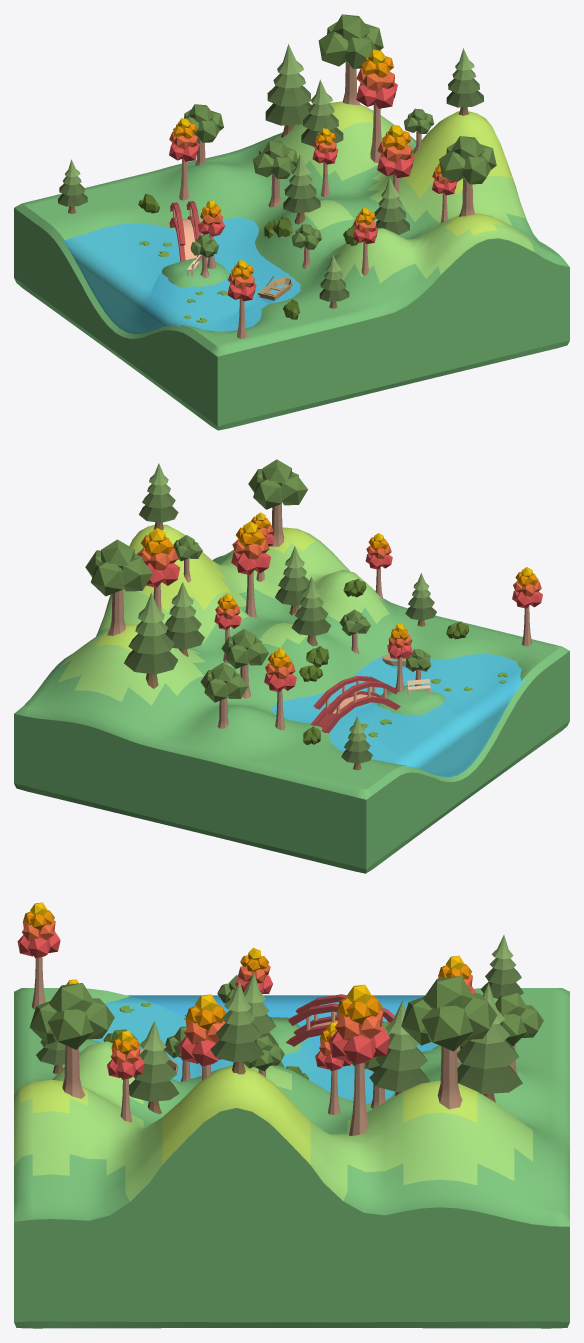
File: HomeRiver.glb
3 renders of one model, top to bottom at view 1: azimuth 30°, elevation 25°; view 2: azimuth 150°, elevation 25°; view 3: azimuth 270°, elevation 25°, orthographic. The views are drawn at different scales.
Parts seen in each view (by area): view 1: terrain, water, pCone4_lambert12_0.001, pPlatonic5_lambert11_0.003, pCone3_lambert13_0.001, pPlatonic2_lambert11_0.003, pPlatonic1_lambert11_0.003, pCube1, pPlatonic2_lambert11_0.002, pPlatonic5_lambert11_0.002, pPlatonic1_lambert11_0.002, pCube2; view 2: terrain, water, pCube1, pCube2, pCone4_lambert12_0.001, pPlatonic3_lambert11_0.003, pPlatonic5_lambert11_0.003, pCone3_lambert13_0.001, pPlatonic3_lambert11_0.002, pPlatonic1_lambert11_0.003, pPlatonic5_lambert11_0.002, pCylinder1_lambert18_0.003 (+4 smaller); view 3: terrain, water, pPlatonic4_lambert11_0.003, pCone4_lambert12_0.001, pCone3_lambert13_0.001, pPlatonic4_lambert11_0.002, pPlatonic1_lambert11_0.003, pCylinder1_lambert18_0.003, pCone4_lambert12_0.006, pPlatonic3_lambert11_0.003, pCylinder2_tree_trunk_0.002, pPlatonic1_lambert11_0.002 (+14 smaller).
Boxes of the visible parts, x1,y1,x2,y2 form: terrain: (14, 101, 569, 430); water: (62, 218, 300, 334); pCone4_lambert12_0.001: (265, 102, 311, 125); pPlatonic5_lambert11_0.003: (318, 31, 348, 66); pCone3_lambert13_0.001: (267, 85, 310, 106); pPlatonic2_lambert11_0.003: (345, 36, 376, 68); pPlatonic1_lambert11_0.003: (331, 14, 370, 40); pCube1: (169, 216, 202, 261); pPlatonic2_lambert11_0.002: (462, 156, 491, 184); pPlatonic5_lambert11_0.002: (439, 151, 465, 181); pPlatonic1_lambert11_0.002: (450, 136, 484, 159); pCube2: (170, 201, 201, 245); terrain: (14, 524, 569, 873); water: (271, 654, 524, 777); pCube1: (310, 691, 400, 733); pCube2: (313, 676, 398, 715); pCone4_lambert12_0.001: (124, 650, 178, 674); pPlatonic3_lambert11_0.003: (91, 562, 123, 596); pPlatonic5_lambert11_0.003: (121, 557, 152, 591); pCone3_lambert13_0.001: (128, 633, 174, 654); pPlatonic3_lambert11_0.002: (253, 479, 282, 509); pPlatonic1_lambert11_0.003: (101, 539, 134, 568); pPlatonic5_lambert11_0.002: (280, 475, 307, 505); pCylinder1_lambert18_0.003: (107, 589, 125, 635); terrain: (14, 988, 569, 1328); water: (91, 995, 438, 1103); pPlatonic4_lambert11_0.003: (421, 1005, 473, 1051); pCone4_lambert12_0.001: (457, 1064, 522, 1094); pCone3_lambert13_0.001: (457, 1040, 519, 1069); pPlatonic4_lambert11_0.002: (47, 1009, 93, 1049); pPlatonic1_lambert11_0.003: (423, 976, 473, 1009); pCylinder1_lambert18_0.003: (437, 1046, 462, 1109); pCone4_lambert12_0.006: (369, 1067, 429, 1091); pPlatonic3_lambert11_0.003: (464, 993, 497, 1039); pCylinder2_tree_trunk_0.002: (349, 1063, 368, 1135); pPlatonic1_lambert11_0.002: (49, 983, 93, 1012).
Size of the model in its own units: 143 by 94.3 by 143.
